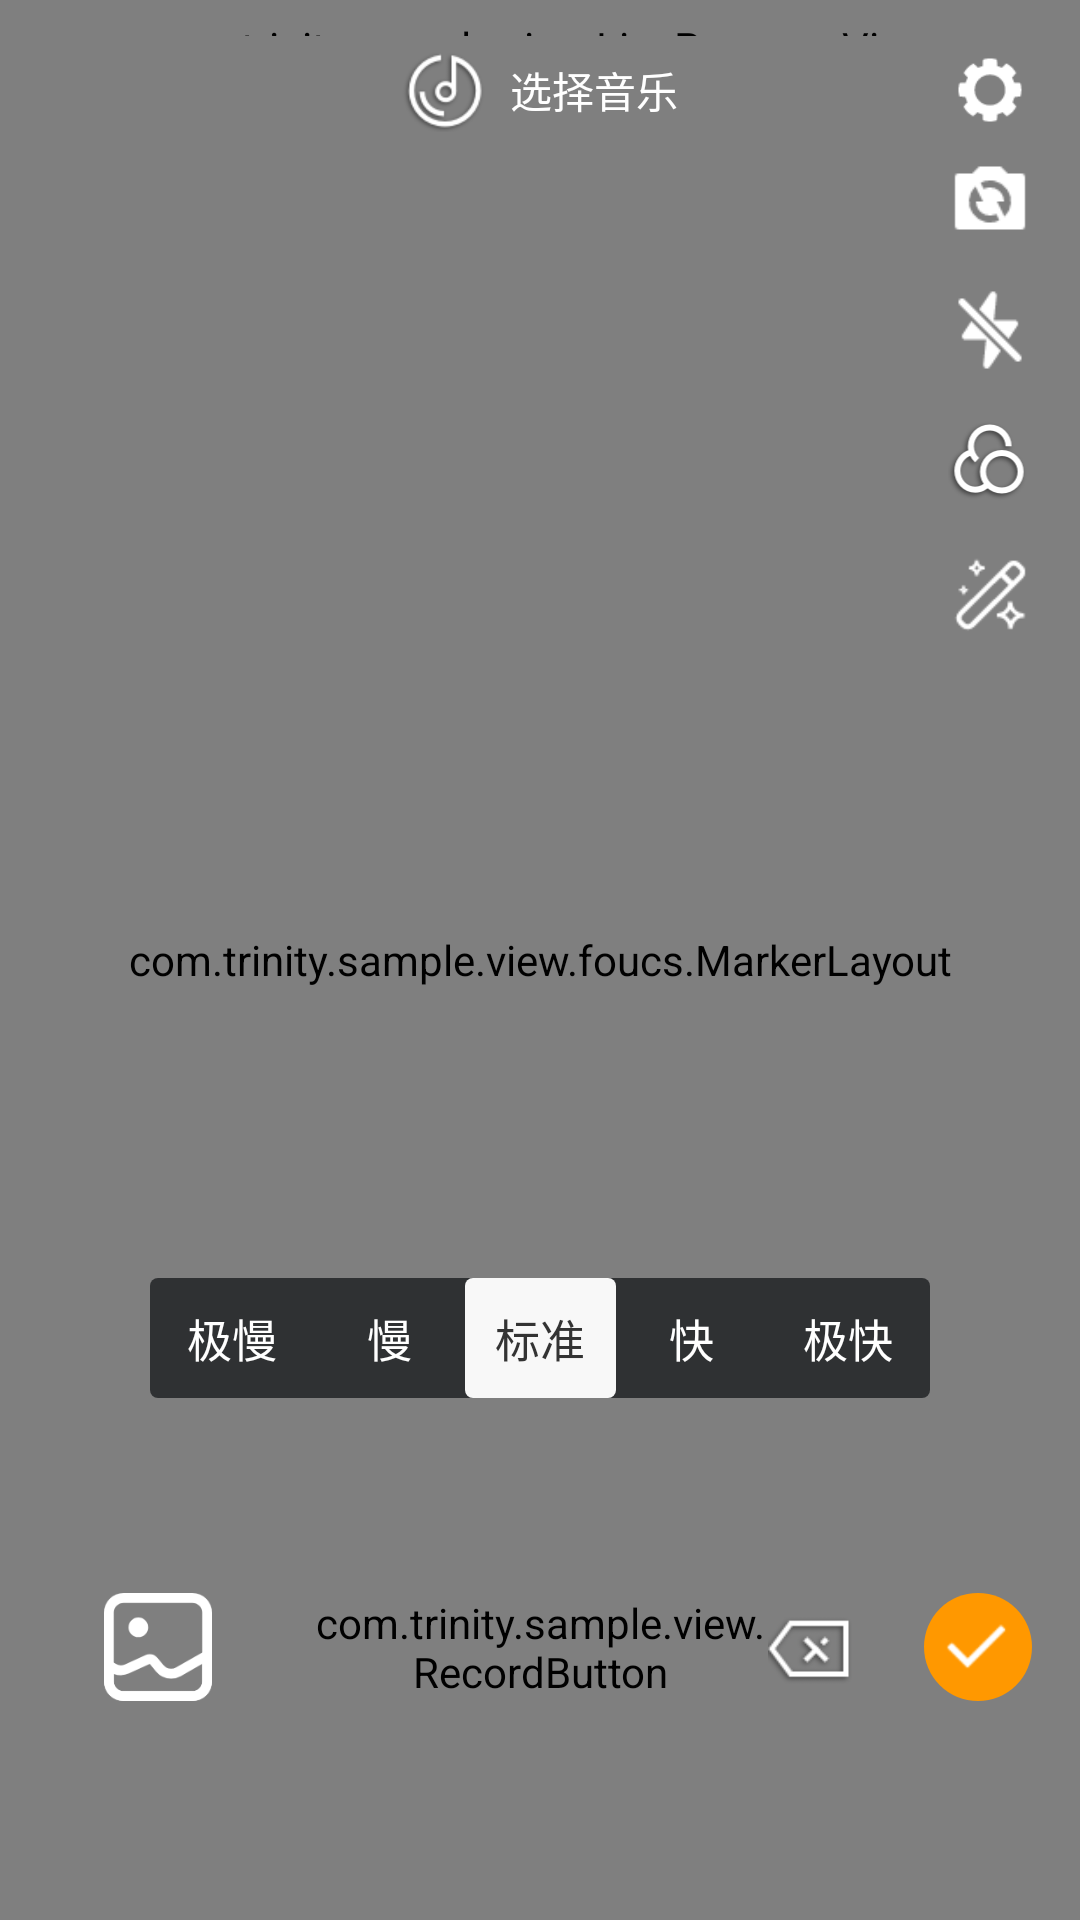

Where icons sit on this 1080*1920 app screen, as (x1, y1, x2, y2):
beauty: (956, 560, 1026, 630)
camera switch: (954, 166, 1026, 230)
delete: (768, 1620, 849, 1679)
filter: (952, 424, 1024, 496)
flash off: (958, 291, 1022, 369)
photo: (104, 1593, 212, 1701)
setting: (958, 58, 1022, 122)
